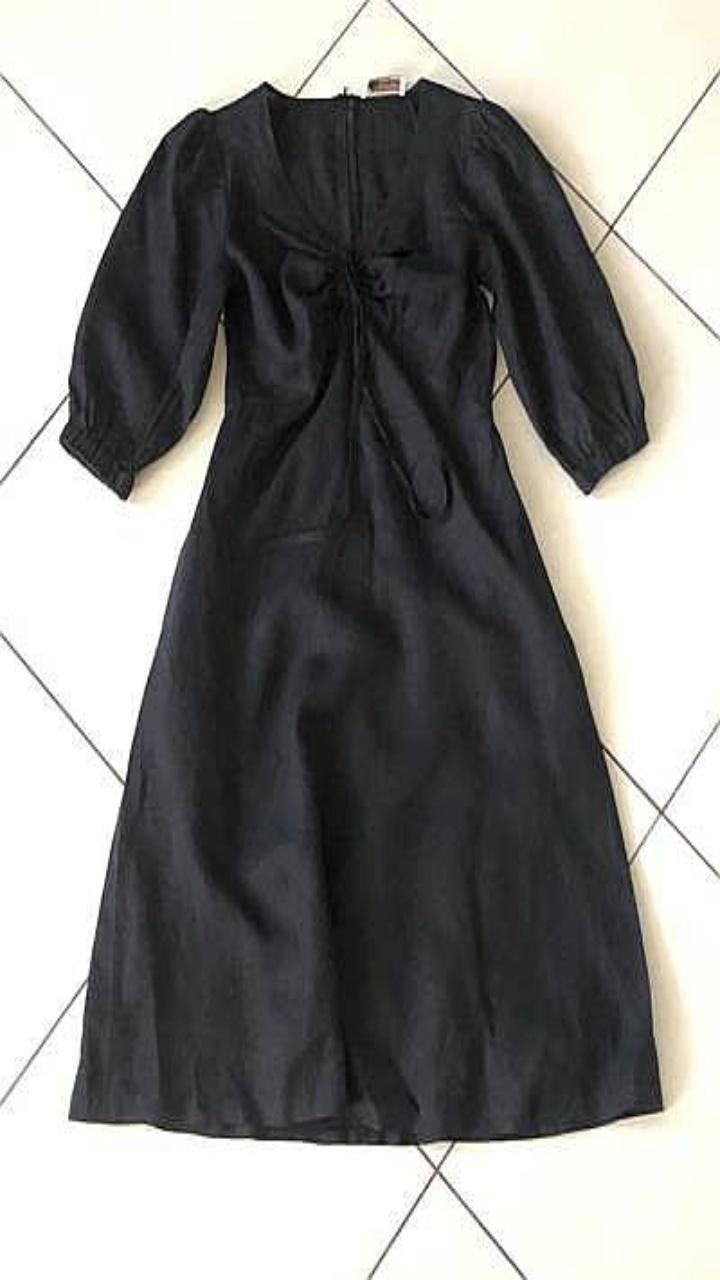Dresses: (60, 79, 662, 1142)
